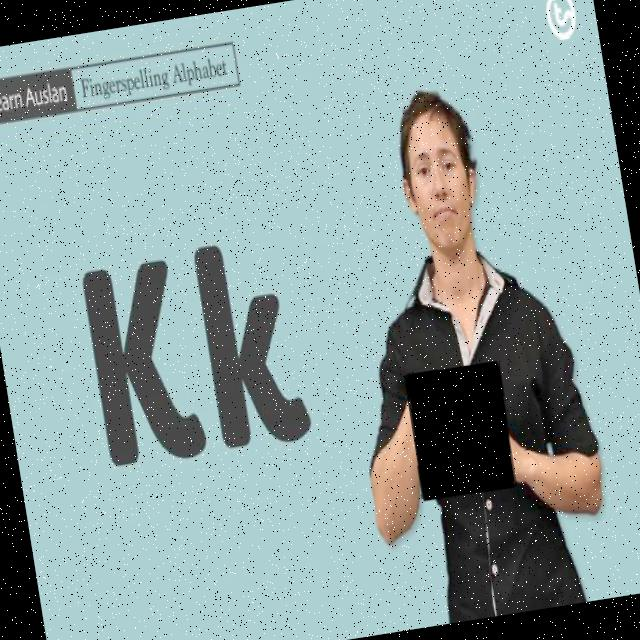K: (404, 361, 520, 503)
